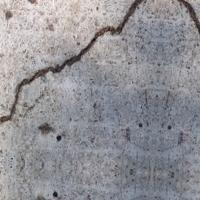crack: (0, 0, 199, 143)
